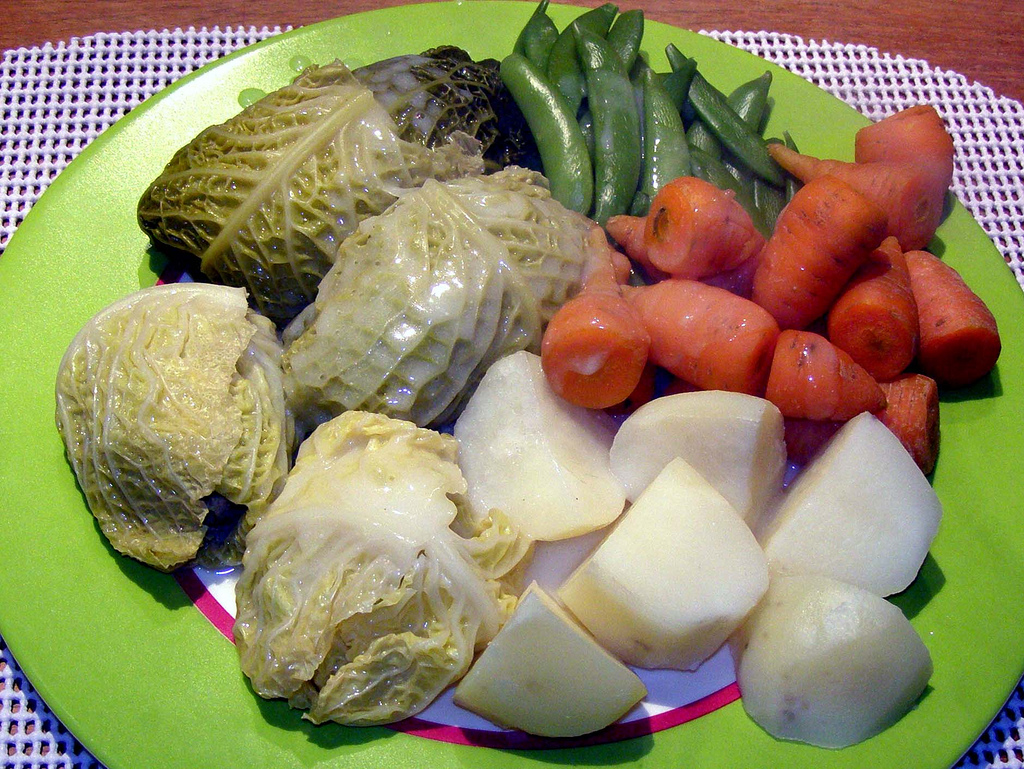boiled peas: (501, 25, 773, 186)
boiled potatoes: (486, 397, 901, 702)
chopped lettuce: (224, 409, 463, 684), (204, 102, 527, 286), (65, 291, 263, 532)
